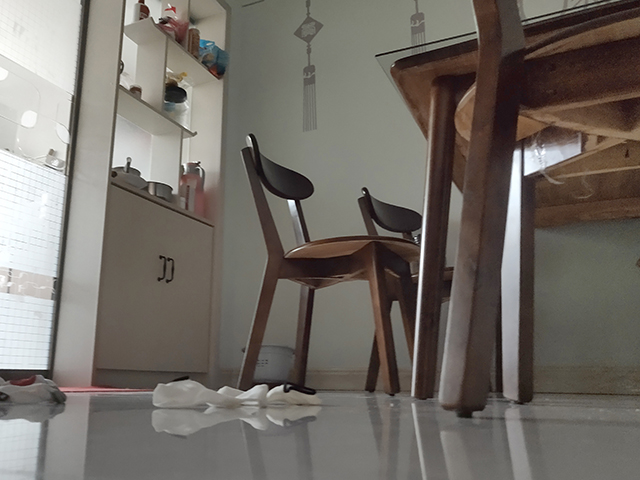cabinet: (74, 178, 235, 390)
carpet: (57, 385, 152, 394)
socks: (152, 374, 325, 410), (1, 372, 68, 406)
stool: (436, 1, 640, 418), (236, 132, 422, 398), (355, 186, 504, 396)
table: (371, 1, 640, 407)
